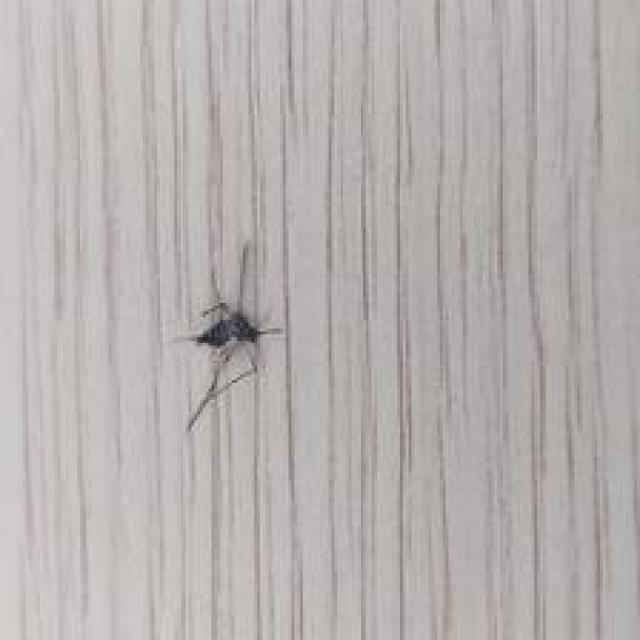Aedes albopictus: (168, 241, 286, 433)
